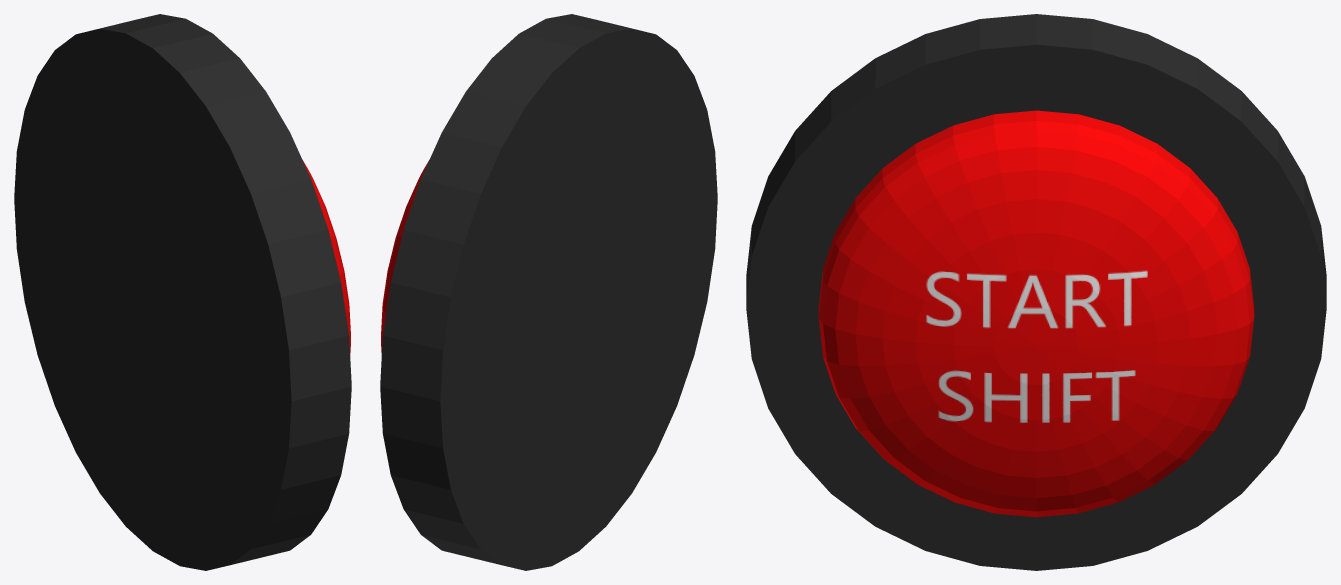
The model's file is button.fbx.
3 renders of one model, left to right at view 1: azimuth 30°, elevation 25°; view 2: azimuth 150°, elevation 25°; view 3: azimuth 270°, elevation 25°, orthographic. The views are drawn at different scales.
Visible parts, largest first — view 1: Cylinder, Sphere; view 2: Cylinder, Sphere; view 3: Sphere, Cylinder.
Boxes of the visible parts, x1,y1,x2,y2 form: Cylinder: [14, 14, 351, 570]; Sphere: [302, 160, 350, 354]; Cylinder: [380, 14, 717, 570]; Sphere: [381, 160, 429, 354]; Sphere: [818, 110, 1254, 517]; Cylinder: [746, 14, 1326, 570].
Bounding box in the file's own units: 4.56 × 16 × 16.
2 materials, 1 textured.
